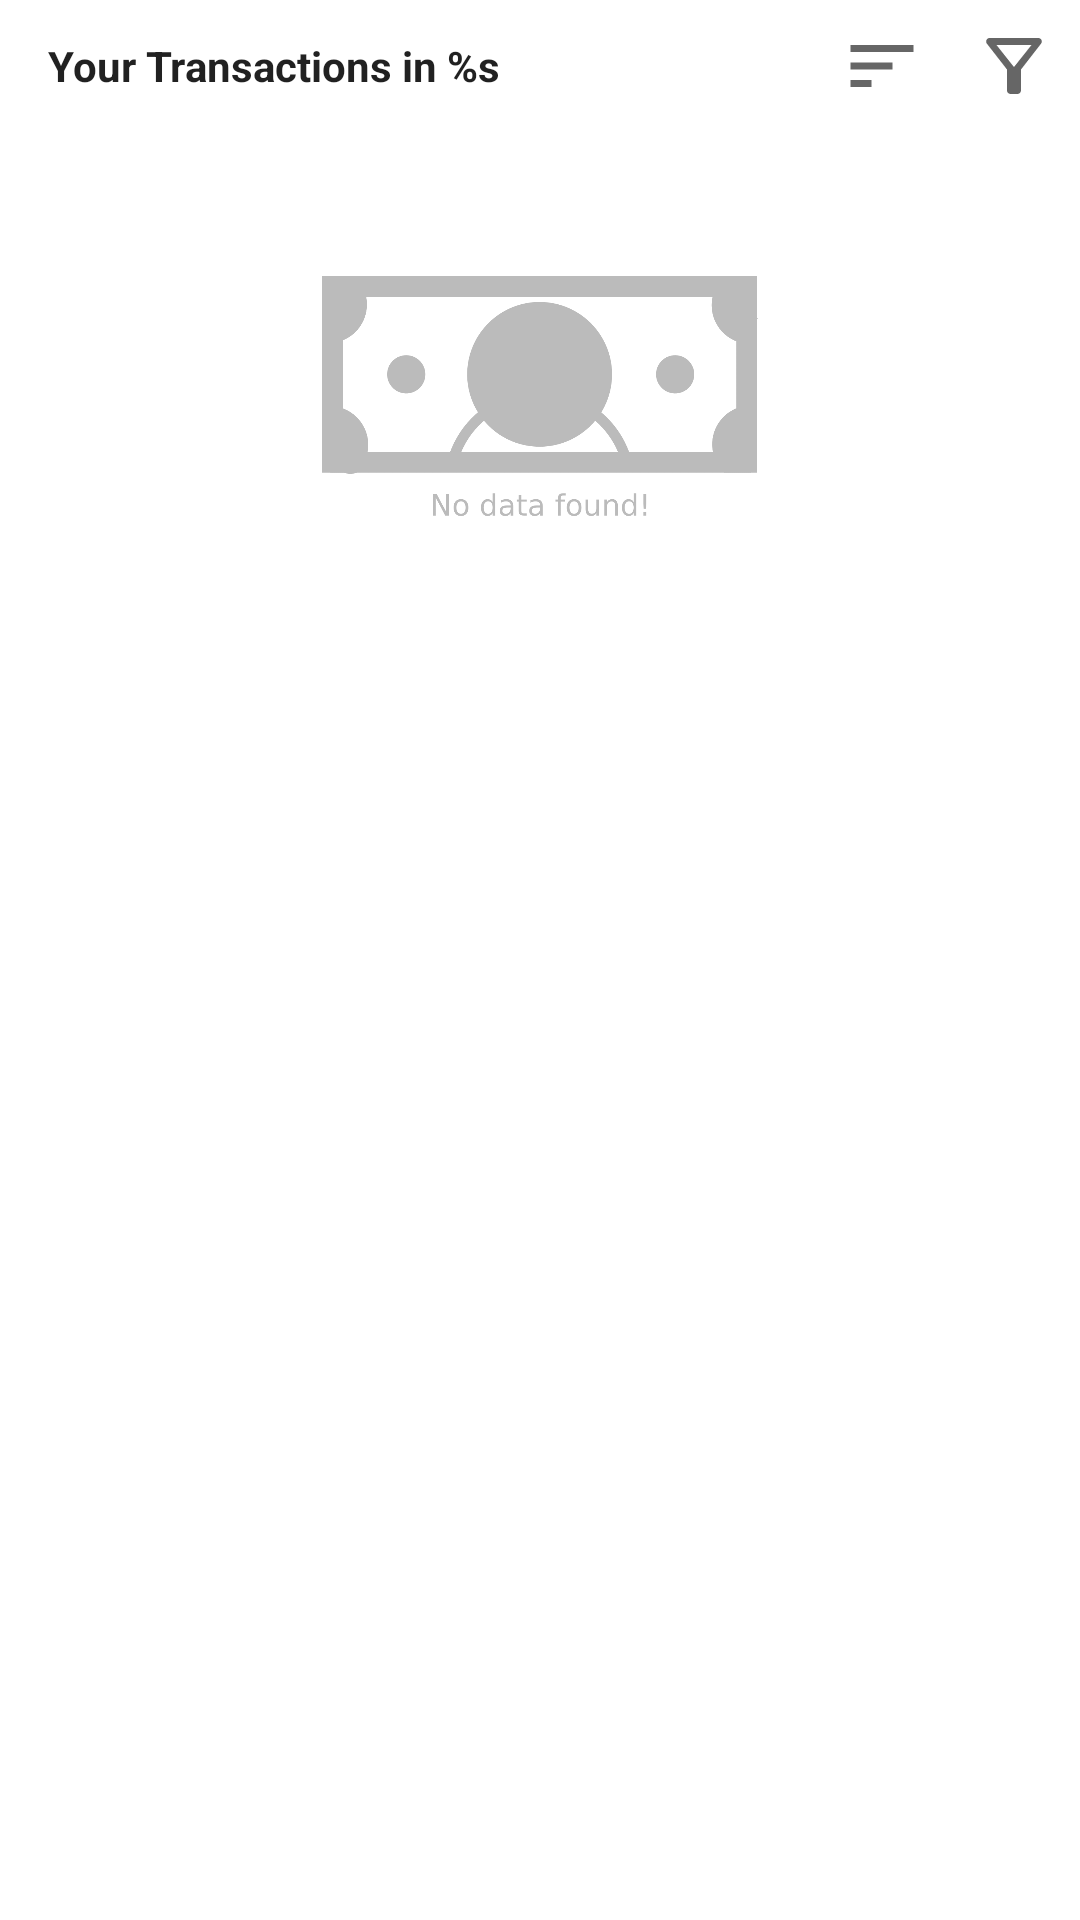

Where icons sit on this 1080 x 1920 app screen, as (x1, y1, x2, y2):
Filter image: (986, 38, 1042, 94)
Sort image: (850, 45, 914, 87)
